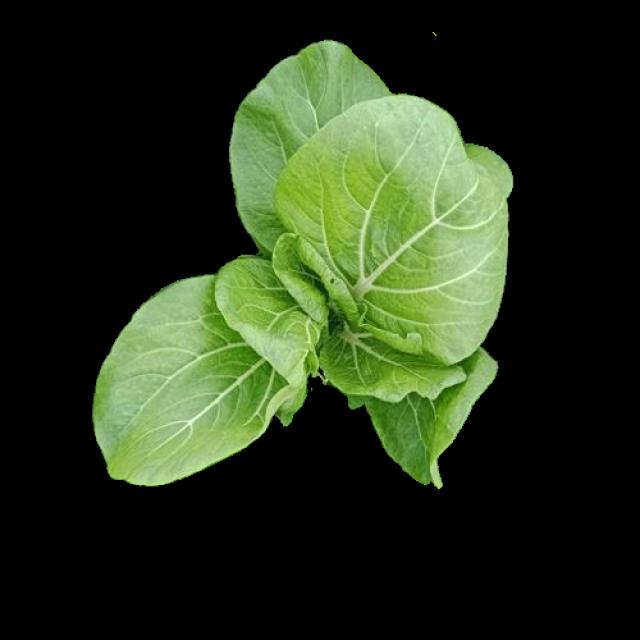healthy: (91, 40, 508, 490)
mature: (93, 42, 511, 493)
